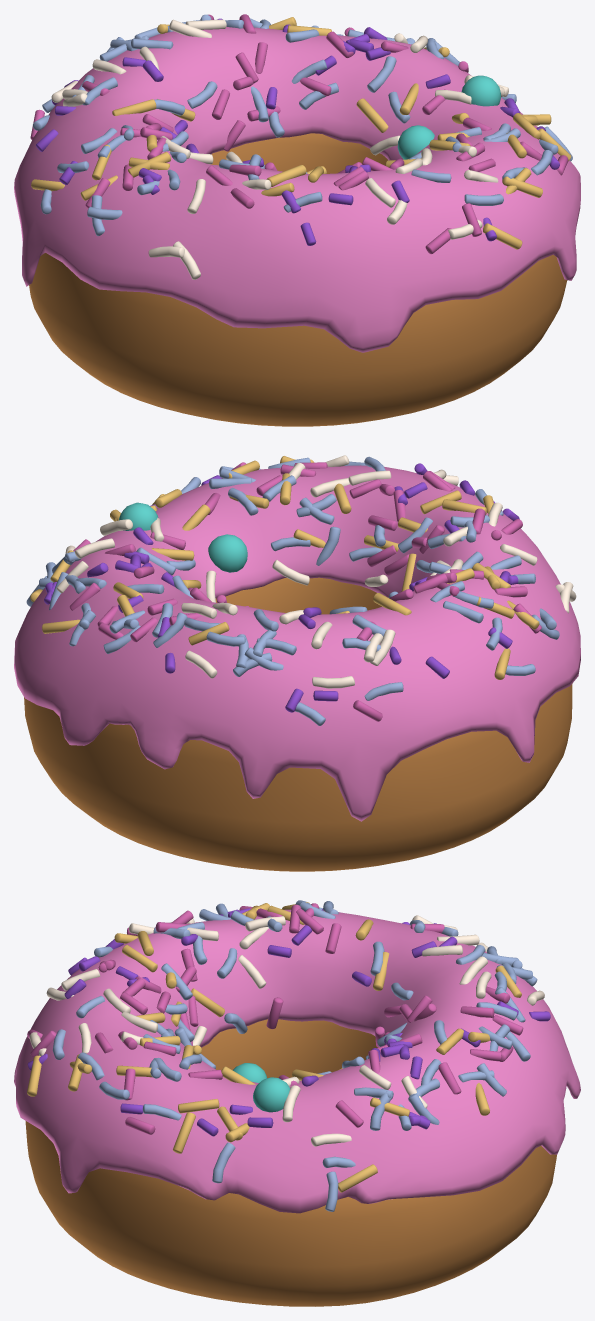
Rendered from SM_donut_pink.fbx.
3 renders of one model, top to bottom at view 1: azimuth 30°, elevation 25°; view 2: azimuth 150°, elevation 25°; view 3: azimuth 270°, elevation 25°, orthographic. The views are drawn at different scales.
Visible parts, largest first — view 1: SM_donut_pink; view 2: SM_donut_pink; view 3: SM_donut_pink.
Part boxes in pixels (box(x1,y1,x2,y2)): SM_donut_pink: box(14, 14, 580, 426); SM_donut_pink: box(14, 455, 580, 871); SM_donut_pink: box(14, 900, 580, 1306).
Size of the model in its own units: 17.32 by 8.4 by 17.2.
1 material, 1 textured.
